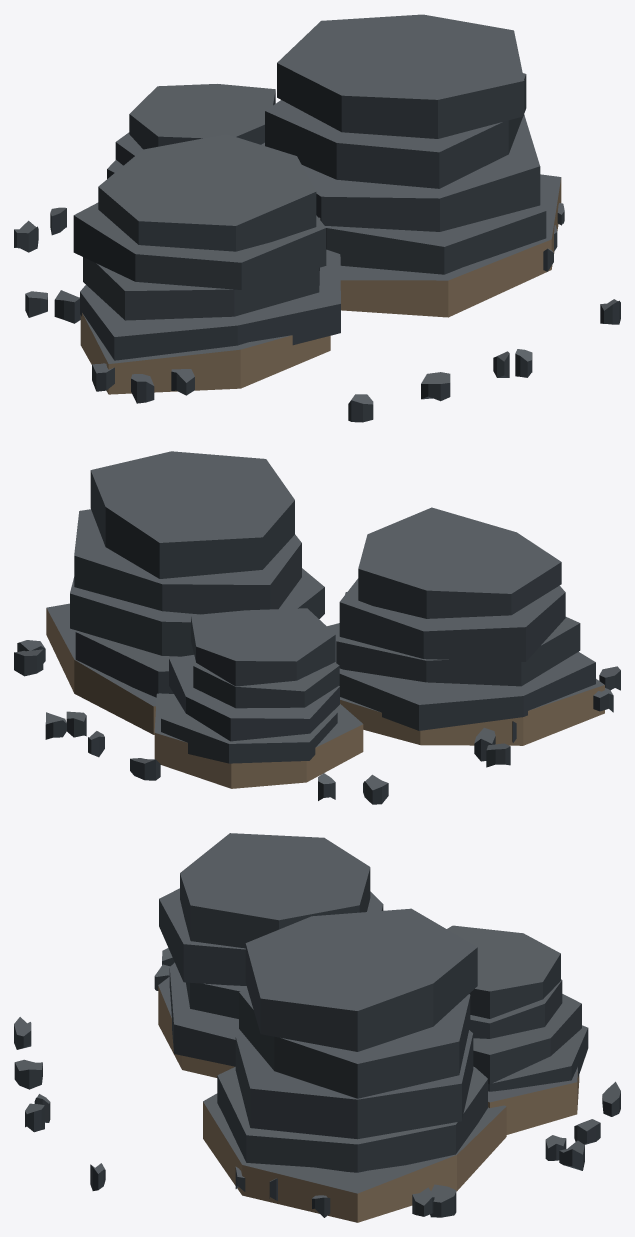
The model's file is SM_CoalDeposit.fbx.
3 renders of one model, top to bottom at view 1: azimuth 30°, elevation 25°; view 2: azimuth 150°, elevation 25°; view 3: azimuth 270°, elevation 25°, orthographic. The views are drawn at different scales.
Visible parts, largest first — view 1: SM_CoalDeposit.001; view 2: SM_CoalDeposit.001; view 3: SM_CoalDeposit.001.
Boxes of the visible parts, x1,y1,x2,y2 form: SM_CoalDeposit.001: (14,14,620,422); SM_CoalDeposit.001: (14,451,620,804); SM_CoalDeposit.001: (14,833,620,1222).
Size of the model in its own units: 221 by 216 by 78.75.
